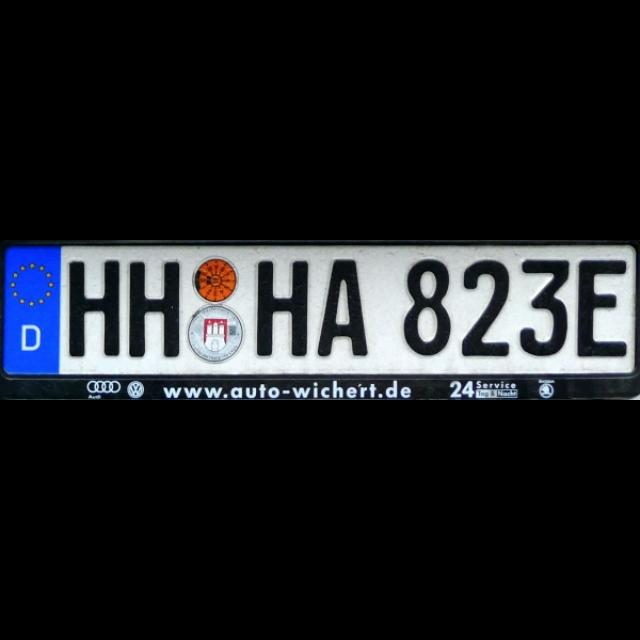d_license_plate: (2, 246, 634, 372)
